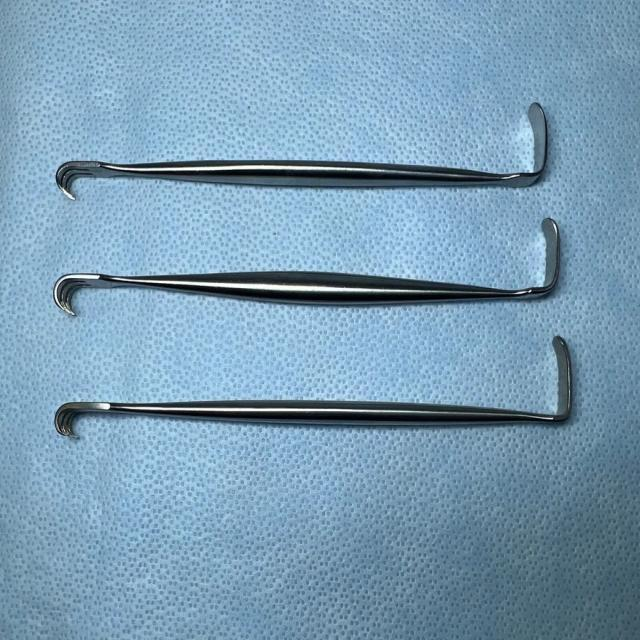Senn Retractor: (49, 86, 558, 201), (46, 211, 574, 321), (47, 333, 583, 441)
